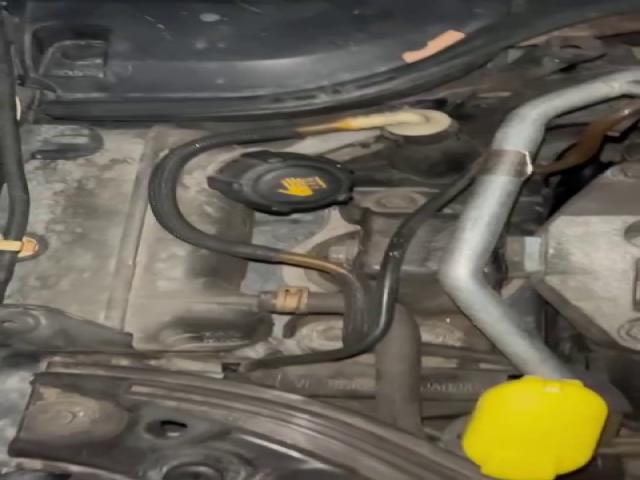antifreeze_tank: (9, 126, 265, 351), (177, 142, 351, 241)
